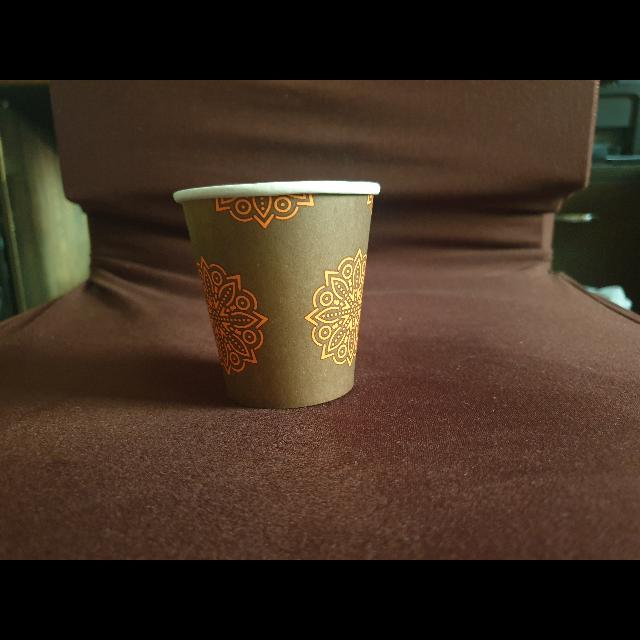trash: (168, 175, 386, 417)
